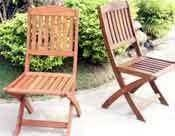obstacle: (4, 6, 79, 134)
